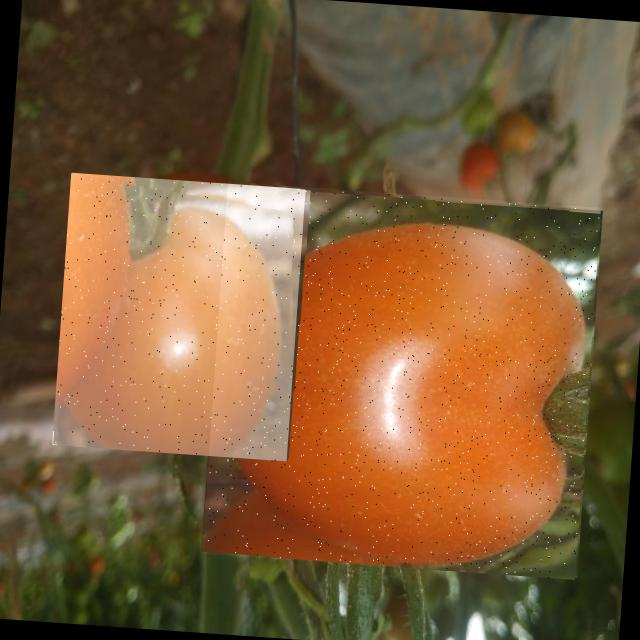Ripe Tomato: (202, 182, 600, 580), (52, 172, 305, 461)
